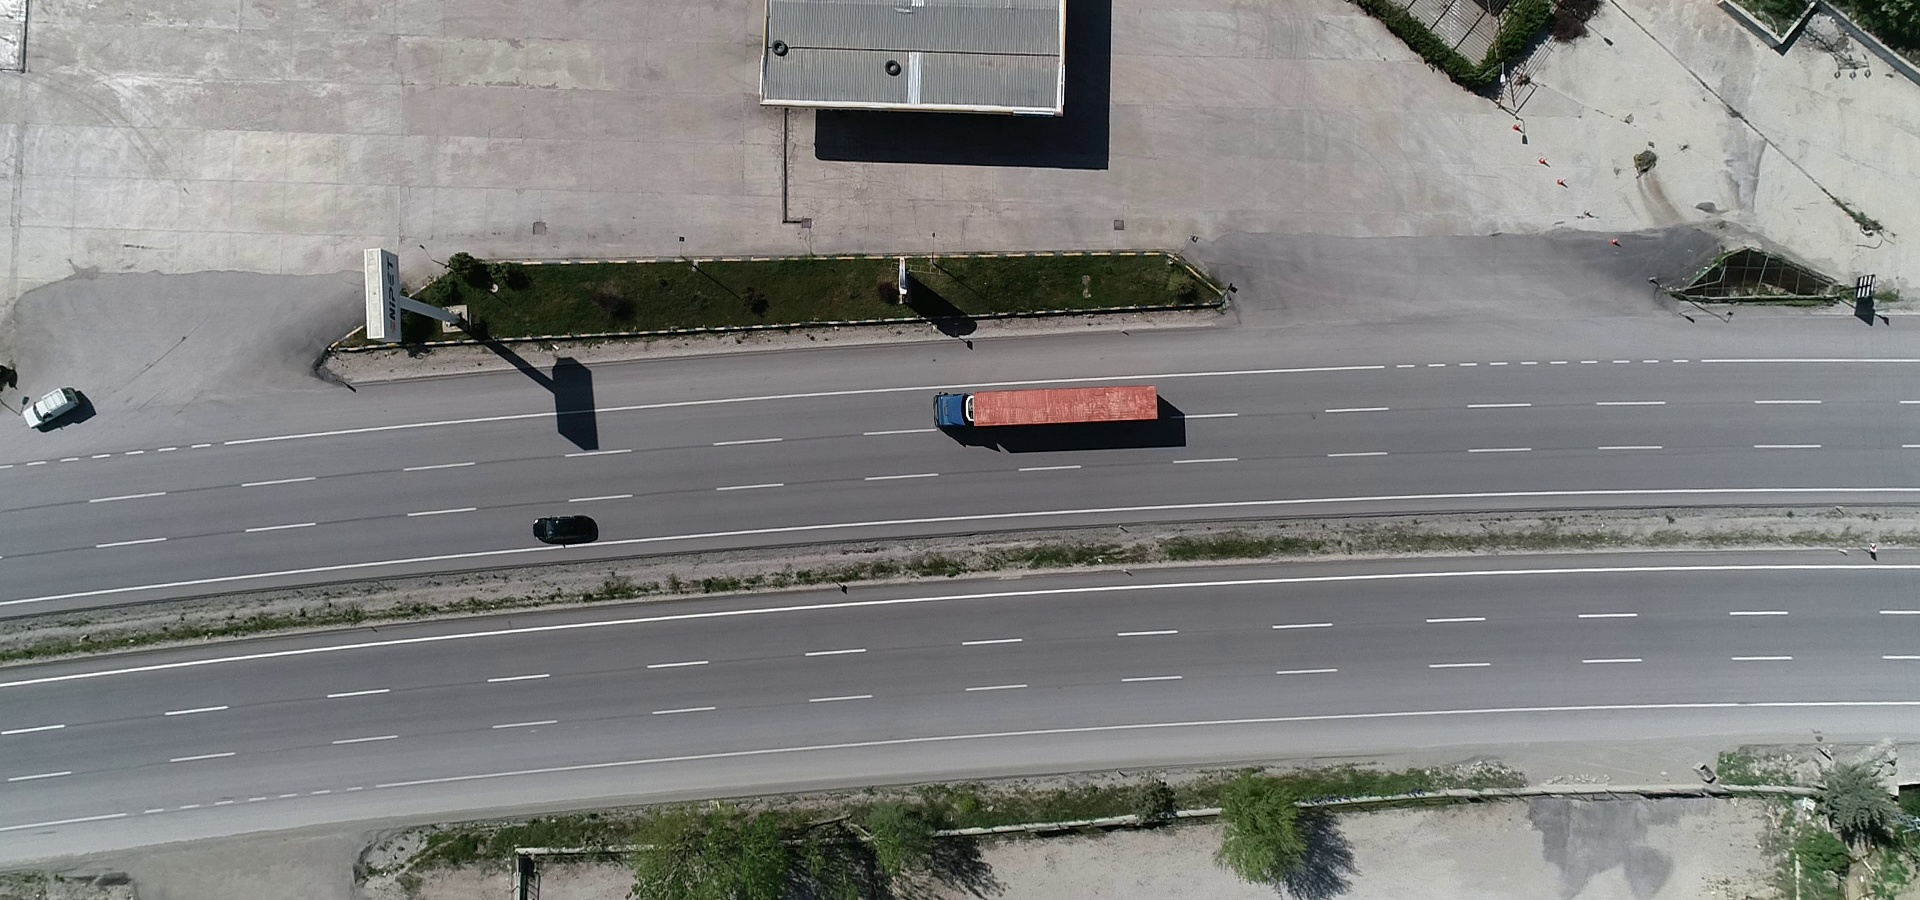araba: (528, 512, 607, 549)
kamyon: (926, 373, 1171, 444)
kamyonet: (16, 373, 96, 443)
